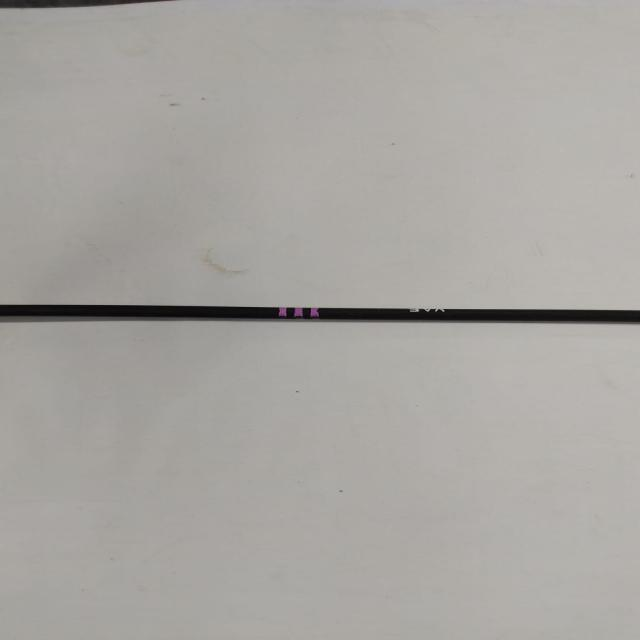pink: (277, 307, 321, 320)
